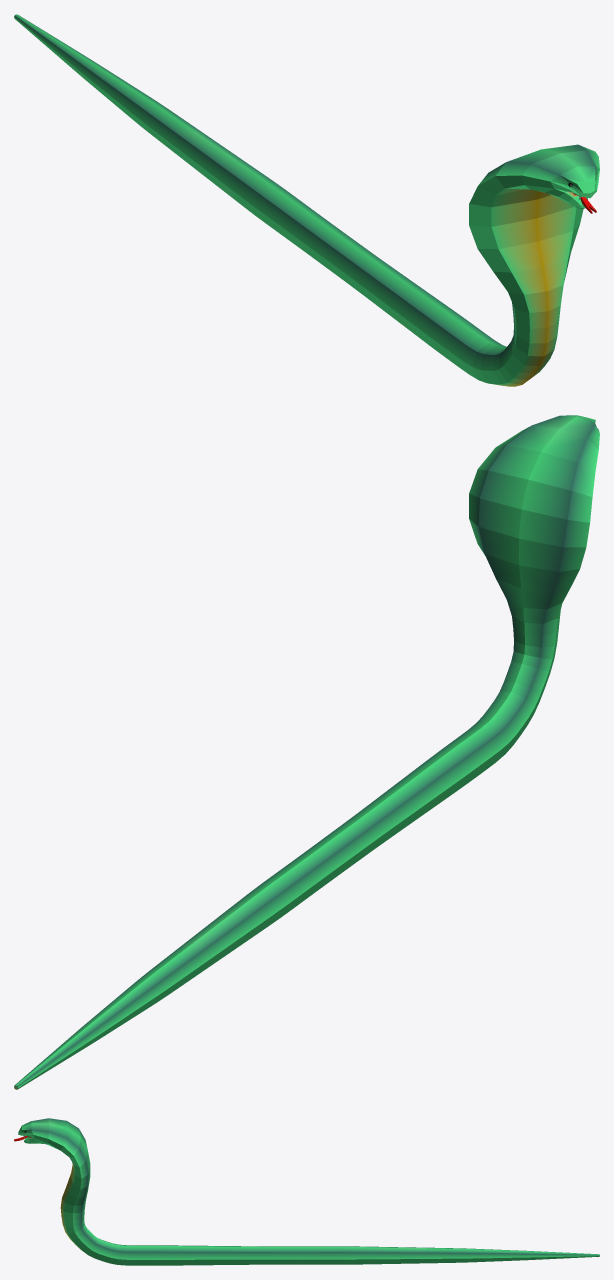
File: Timos Kobra.fbx
3 views of the same model, one above another, from view 1: azimuth 30°, elevation 25°; view 2: azimuth 150°, elevation 25°; view 3: azimuth 270°, elevation 25° (orthographic). The views are drawn at different scales.
Parts seen in each view (by area): view 1: Vert.001; view 2: Vert.001; view 3: Vert.001.
Part boxes in pixels (box(x1,y1,x2,y2)): Vert.001: box(14, 14, 599, 386); Vert.001: box(14, 415, 599, 1089); Vert.001: box(14, 1118, 599, 1265).
Size of the model in its own units: 180 by 399 by 1494.
